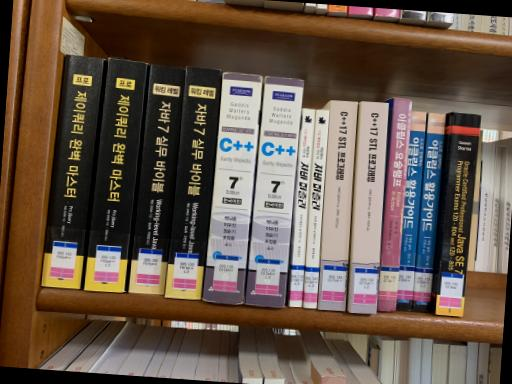book-spine: (41, 54, 105, 289), (86, 58, 147, 293), (202, 73, 262, 304), (244, 76, 303, 308), (128, 64, 185, 295), (165, 66, 220, 299), (434, 112, 481, 316), (318, 100, 358, 310), (349, 102, 388, 314), (378, 97, 412, 311), (412, 114, 445, 311), (396, 111, 427, 311), (289, 108, 316, 307), (303, 110, 330, 309)
